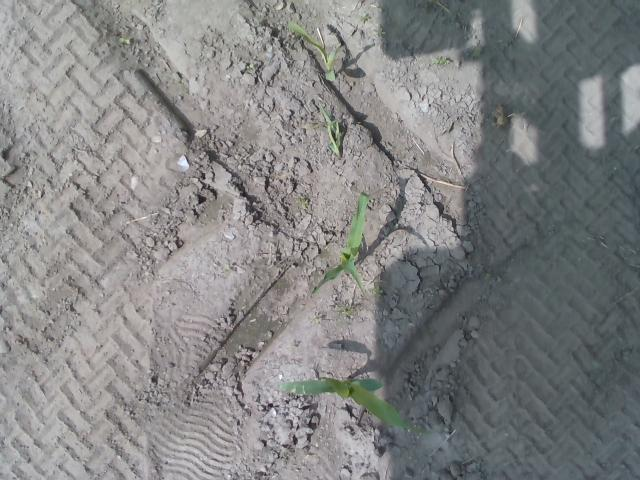Maize: (278, 376, 437, 441), (310, 188, 370, 300), (284, 18, 343, 82)
Weeds: (302, 106, 343, 160), (430, 56, 450, 66), (372, 284, 384, 298), (114, 35, 130, 45), (297, 197, 309, 209), (336, 306, 352, 315), (309, 314, 322, 324), (375, 28, 386, 38), (359, 15, 369, 24), (416, 432, 424, 441), (473, 48, 480, 56), (246, 63, 254, 70)
